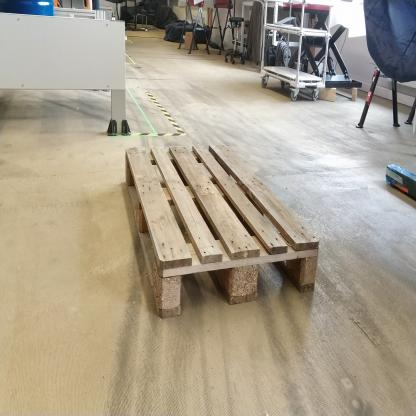BoxFace: (119, 133, 323, 324)
